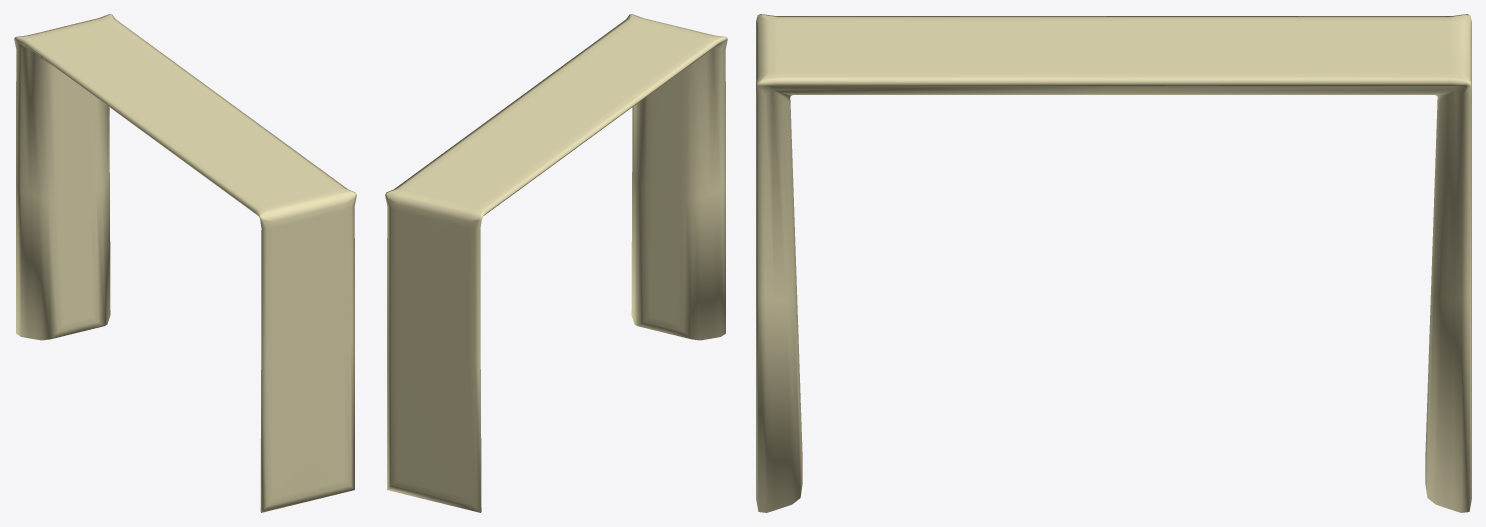
The model's file is FRAME.gltf.
3 renders of one model, left to right at view 1: azimuth 30°, elevation 25°; view 2: azimuth 150°, elevation 25°; view 3: azimuth 270°, elevation 25°, orthographic. The views are drawn at different scales.
Visible parts, largest first — view 1: FRAME; view 2: FRAME; view 3: FRAME.
Part boxes in pixels (x1,y1,x2,y2): FRAME: [14, 14, 356, 512]; FRAME: [385, 14, 727, 512]; FRAME: [756, 14, 1471, 512].
Size of the model in its own units: 0.2918 by 0.862 by 1.29.
